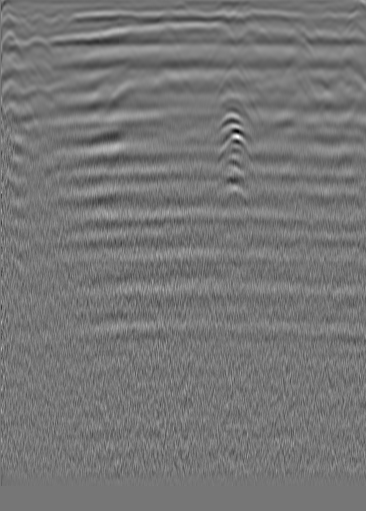가스: (216, 132, 257, 172)
상수: (316, 14, 336, 34)
오수: (27, 35, 47, 55)
우수: (159, 22, 179, 42)
